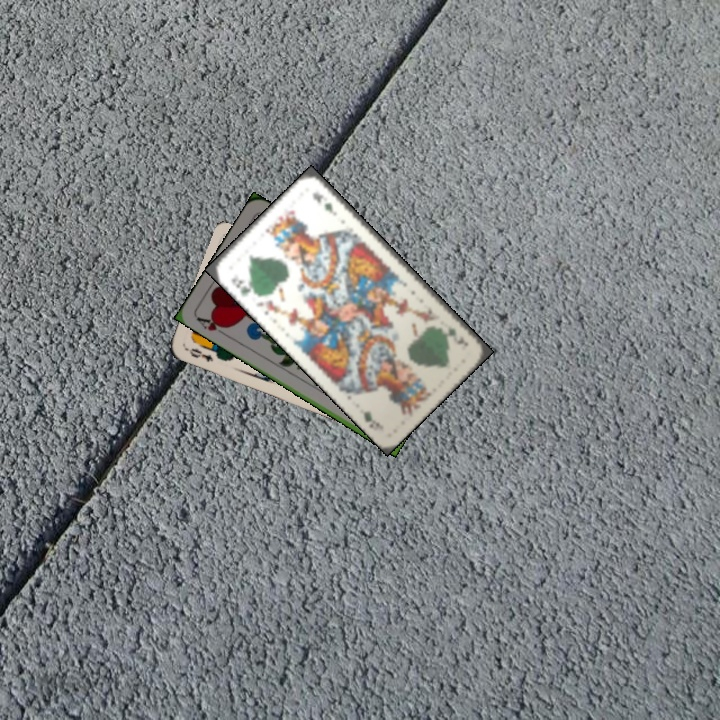EO: (182, 344, 216, 365)
GK: (437, 323, 471, 351), (227, 271, 259, 299)
HA: (192, 312, 231, 339)
